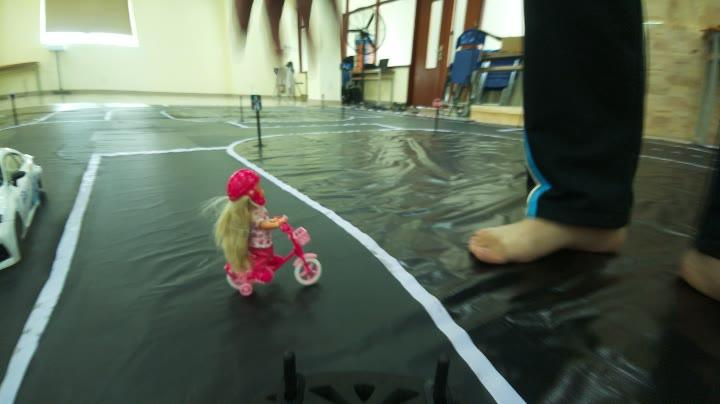pedestrian: (192, 171, 316, 275)
